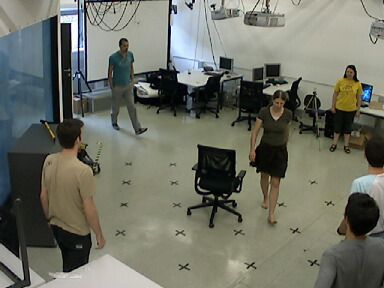person: (37, 118, 102, 248), (251, 84, 293, 221), (331, 186, 384, 285), (106, 36, 150, 139), (332, 63, 359, 148), (354, 132, 384, 177)
